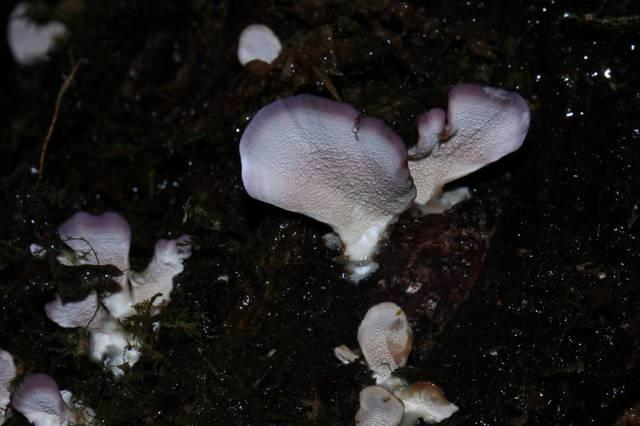poisonous_mushroom: (237, 80, 531, 283), (30, 209, 193, 378)
